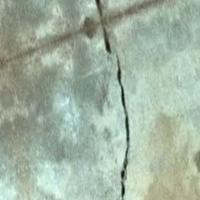crack: (70, 0, 152, 199)
